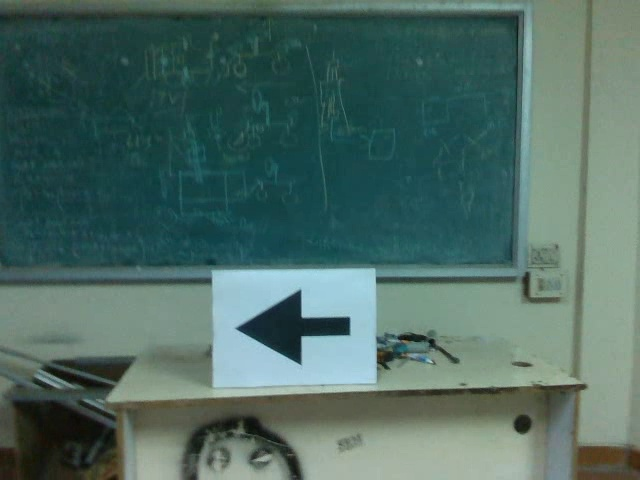Left: (229, 286, 355, 369)
